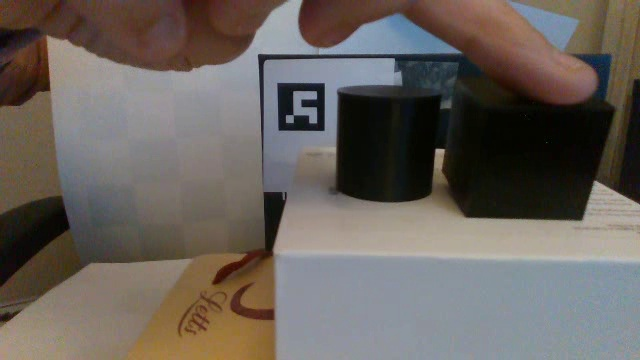cube: (440, 67, 625, 231)
cylindre: (332, 79, 446, 204)
